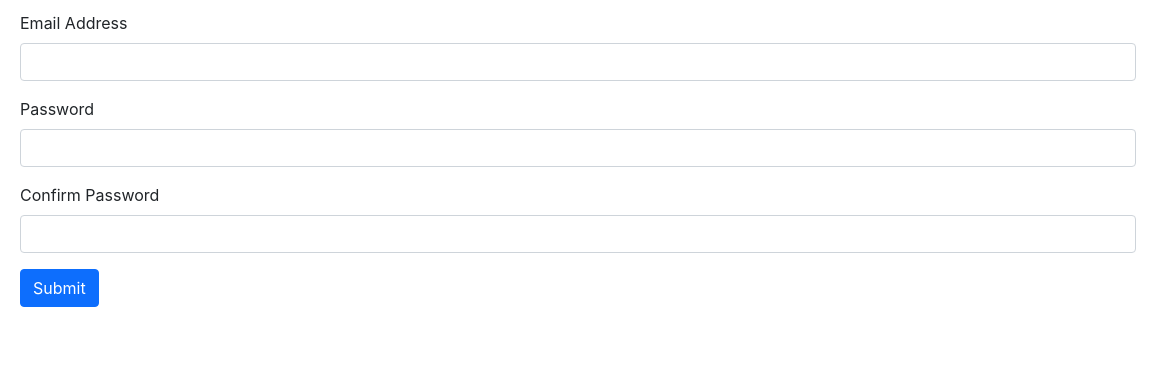
it: should show password does not match confirm error message when password and confirm password do not match
Type "test@gmail.com" into the field at (578, 62), box top-left (20, 43), bottom-right (1136, 81)
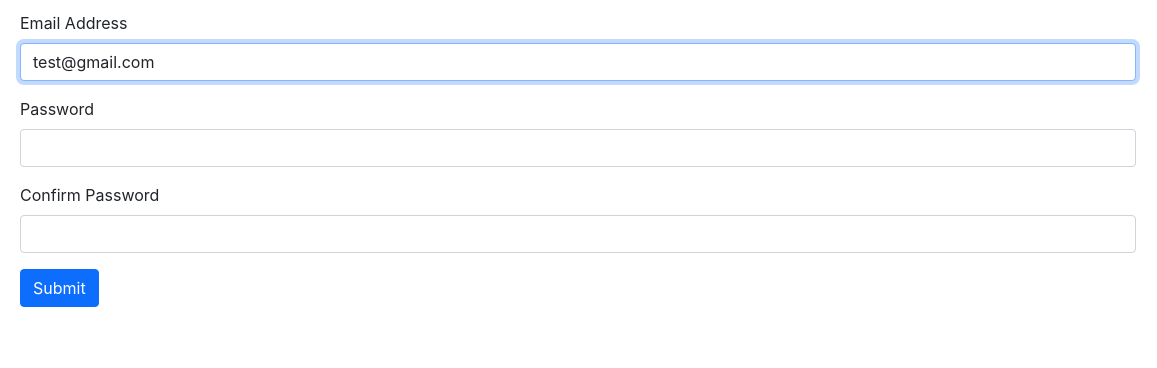
Type "strong" into the password field labelled "Password" at (578, 148), box top-left (20, 129), bottom-right (1136, 167)
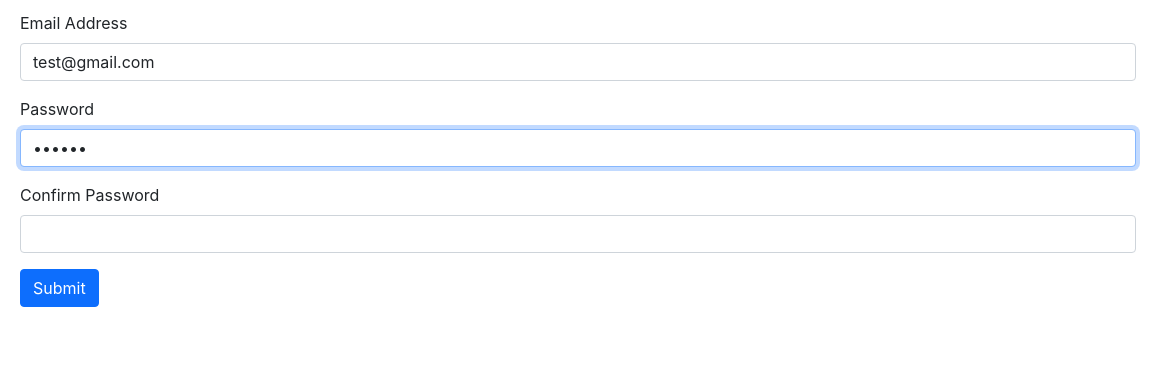
Type "stro" into the password field labelled "Confirm Password" at (578, 234), box top-left (20, 215), bottom-right (1136, 253)
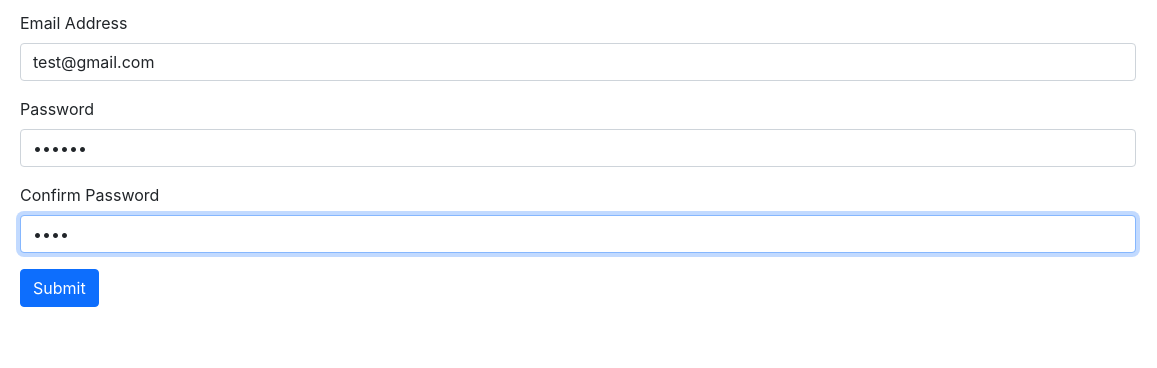
Click the button at (59, 288), box top-left (20, 269), bottom-right (99, 307)
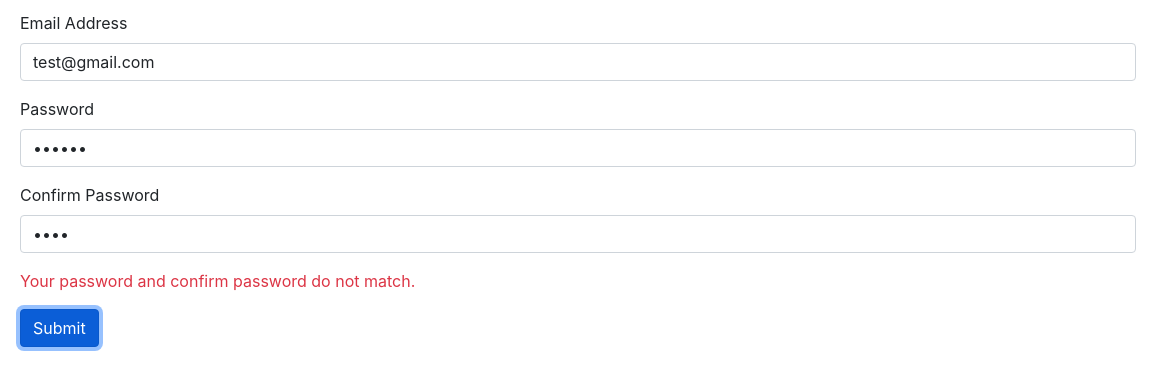
Expected: the text "Your password and confirm password do not match." is shown, top-left (20, 271), bottom-right (415, 291)
